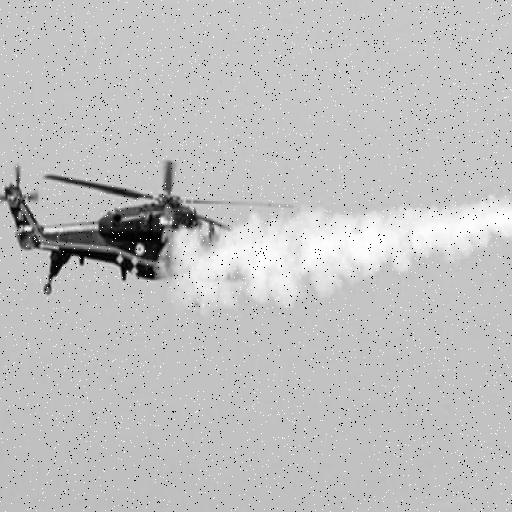helicopter: (1, 144, 298, 333)
